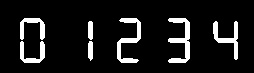four: (211, 20, 238, 60)
one: (87, 20, 93, 60)
three: (166, 18, 190, 63)
two: (117, 18, 142, 63)
zero: (19, 17, 45, 63)
